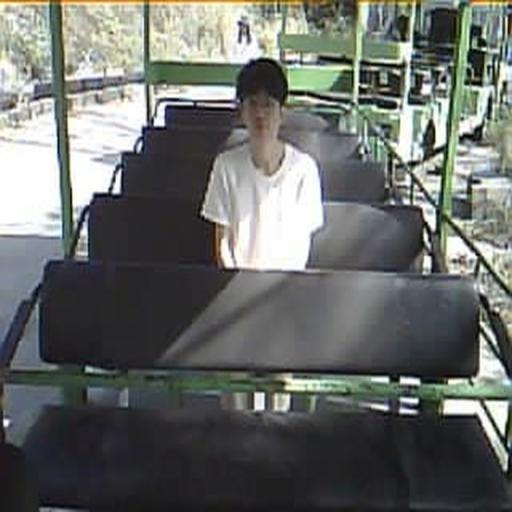persona: (200, 56, 325, 271)
